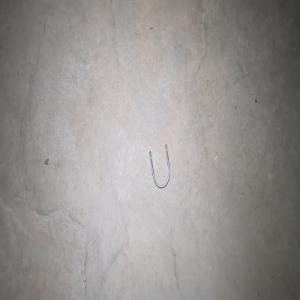ClampPart: (148, 143, 170, 189)
